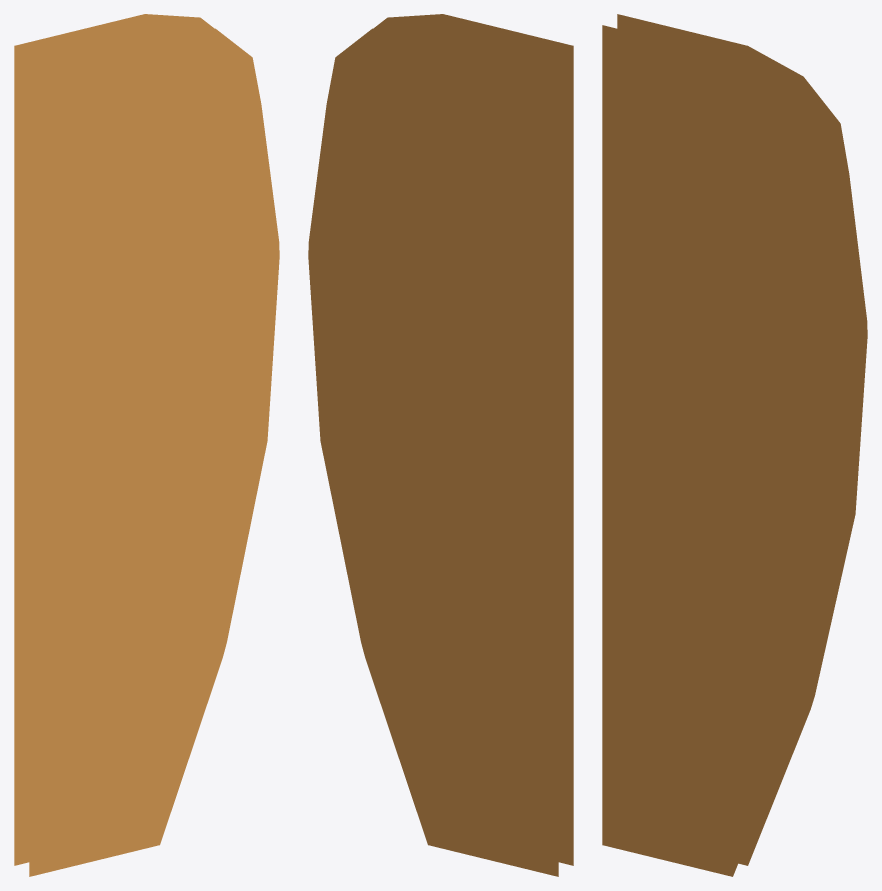
File: Modular_Inside_Wall_Junction.fbx
3 views of the same model, side by side, from view 1: azimuth 30°, elevation 25°; view 2: azimuth 150°, elevation 25°; view 3: azimuth 330°, elevation 25° (orthographic).
Parts seen in each view (by area): view 1: Modular_Inside_Wall_Junction; view 2: Modular_Inside_Wall_Junction; view 3: Modular_Inside_Wall_Junction.
Part boxes in pixels (x1,y1,x2,y2): Modular_Inside_Wall_Junction: (14, 14, 279, 876); Modular_Inside_Wall_Junction: (308, 14, 573, 876); Modular_Inside_Wall_Junction: (602, 14, 867, 876).
Bounding box in the file's own units: 95.82 × 300 × 10.
